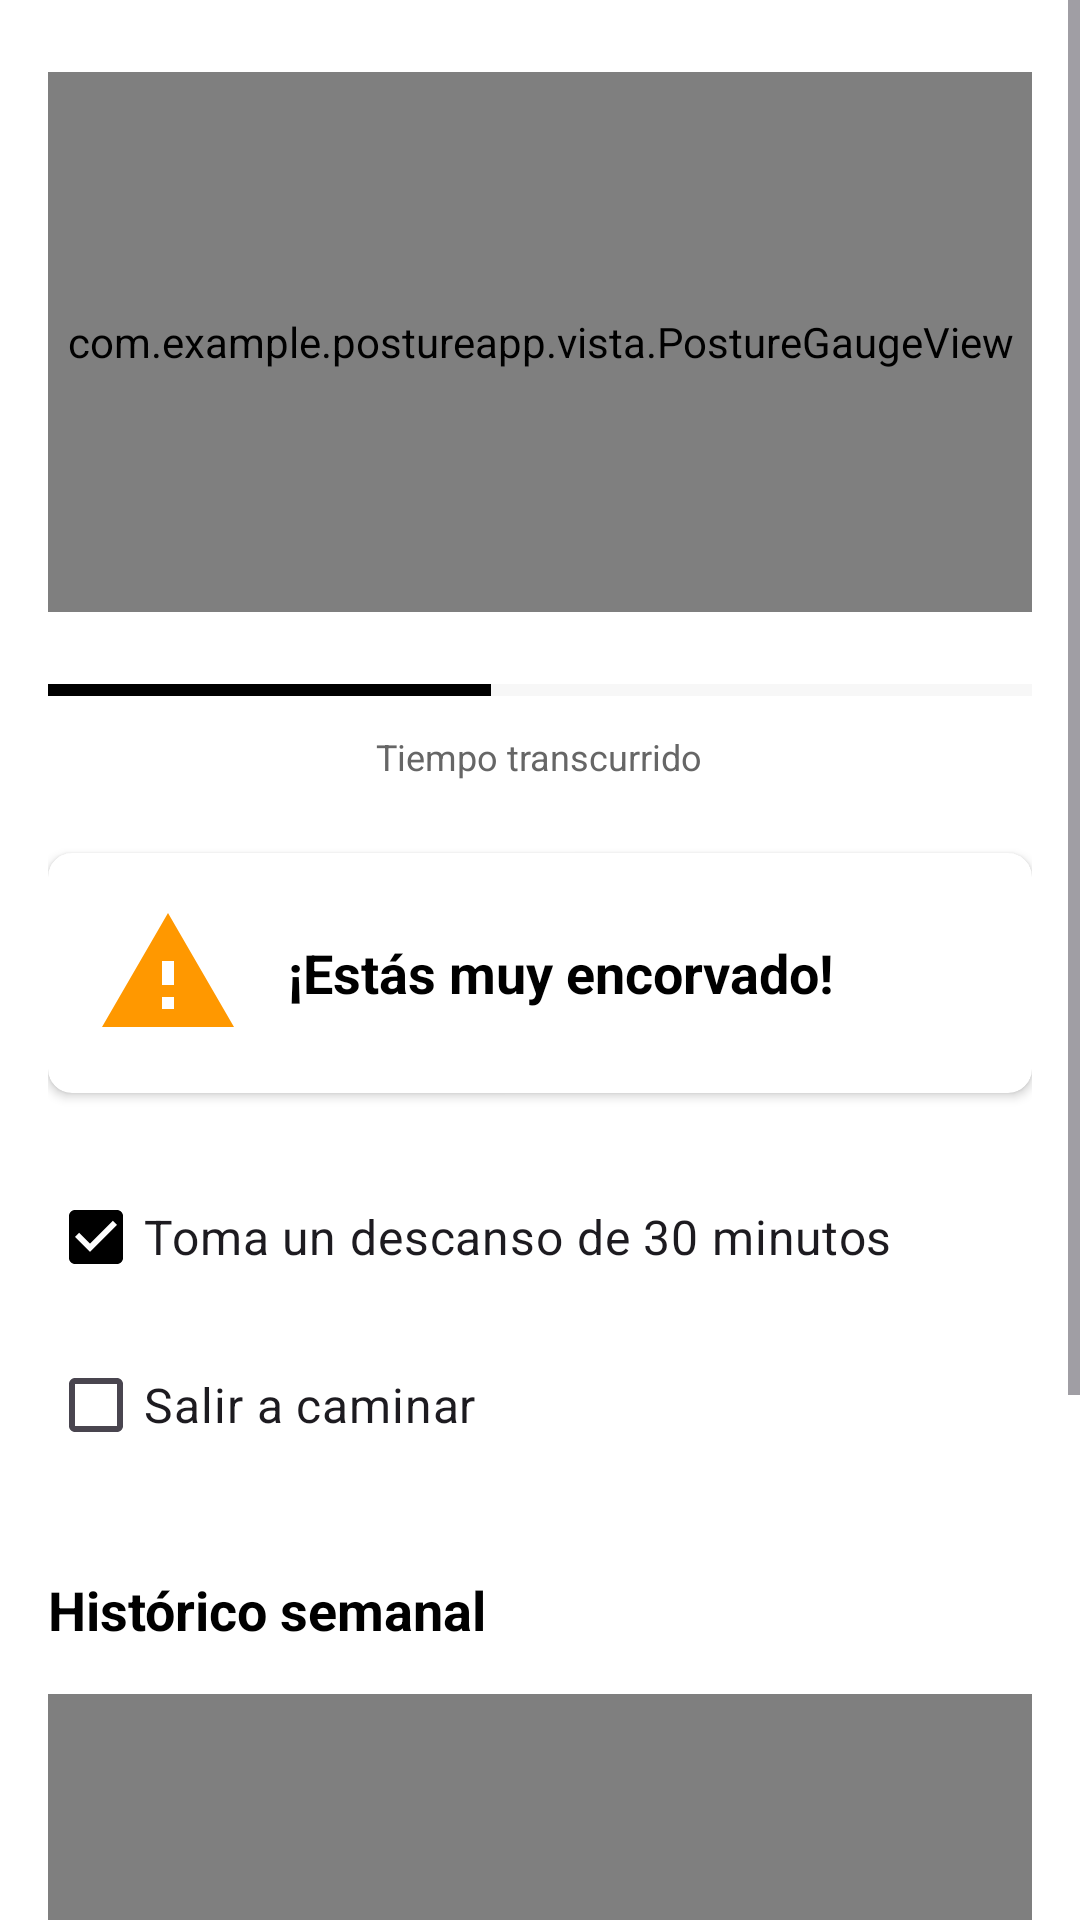

Named icons in this screenshot (1080x1920) and their centers, [x,y]:
Warning icon: [168,970]
